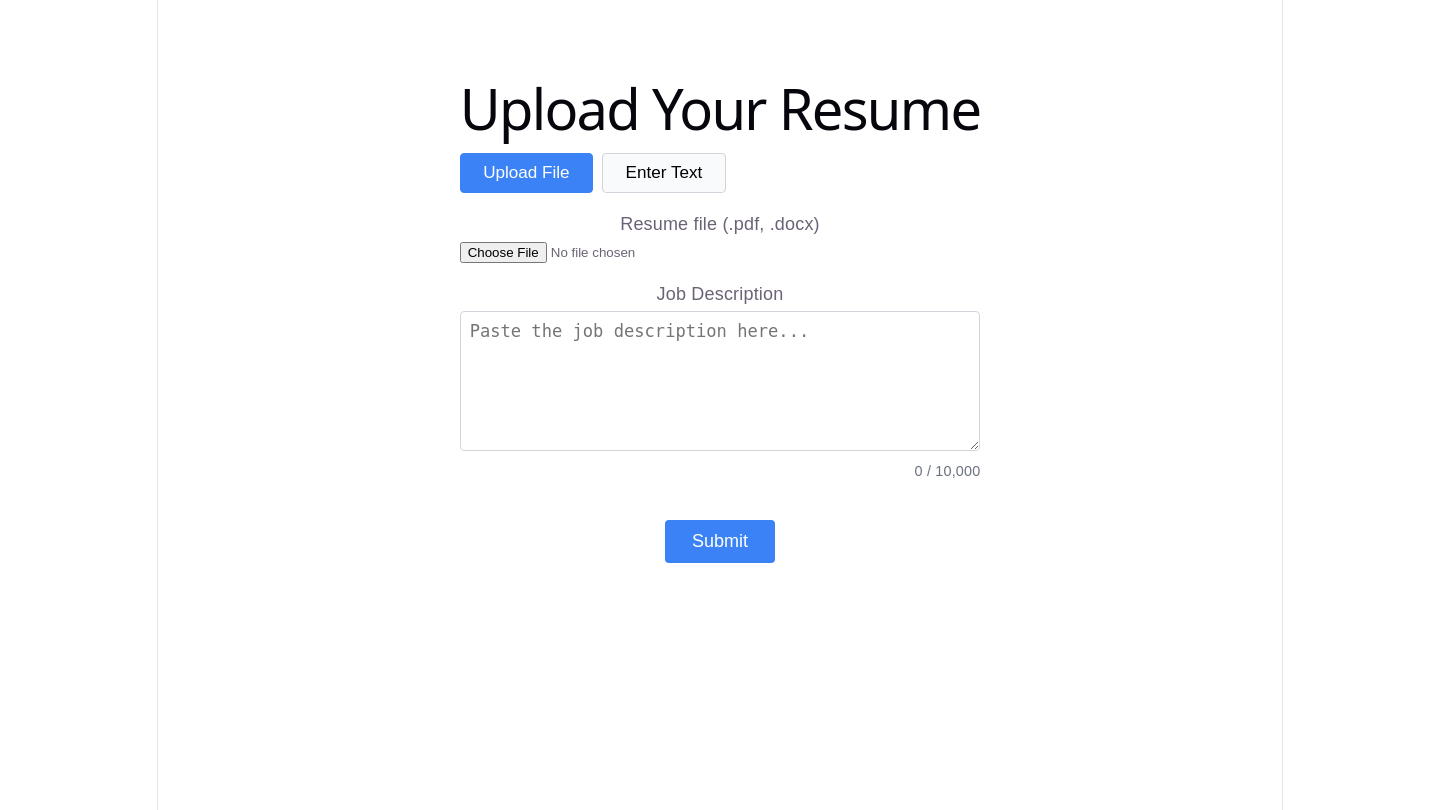
ResumeJDInputScreen › shows character counter for text mode
Click the button "Enter Text": x=664, y=173 [602,153,726,193]
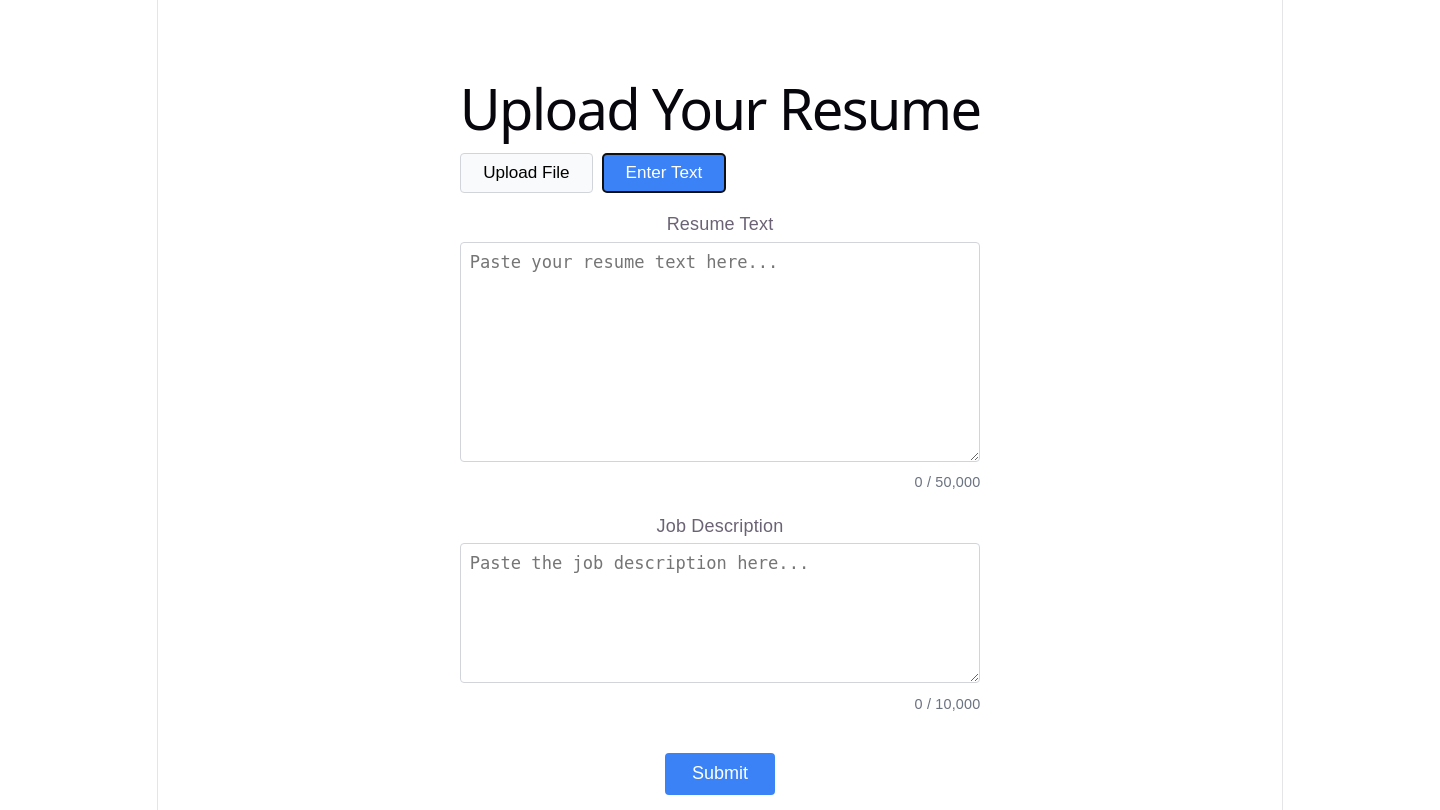
In the text box labelled "Resume Text": x=720, y=352 [460,242,980,462], type "hello01234"
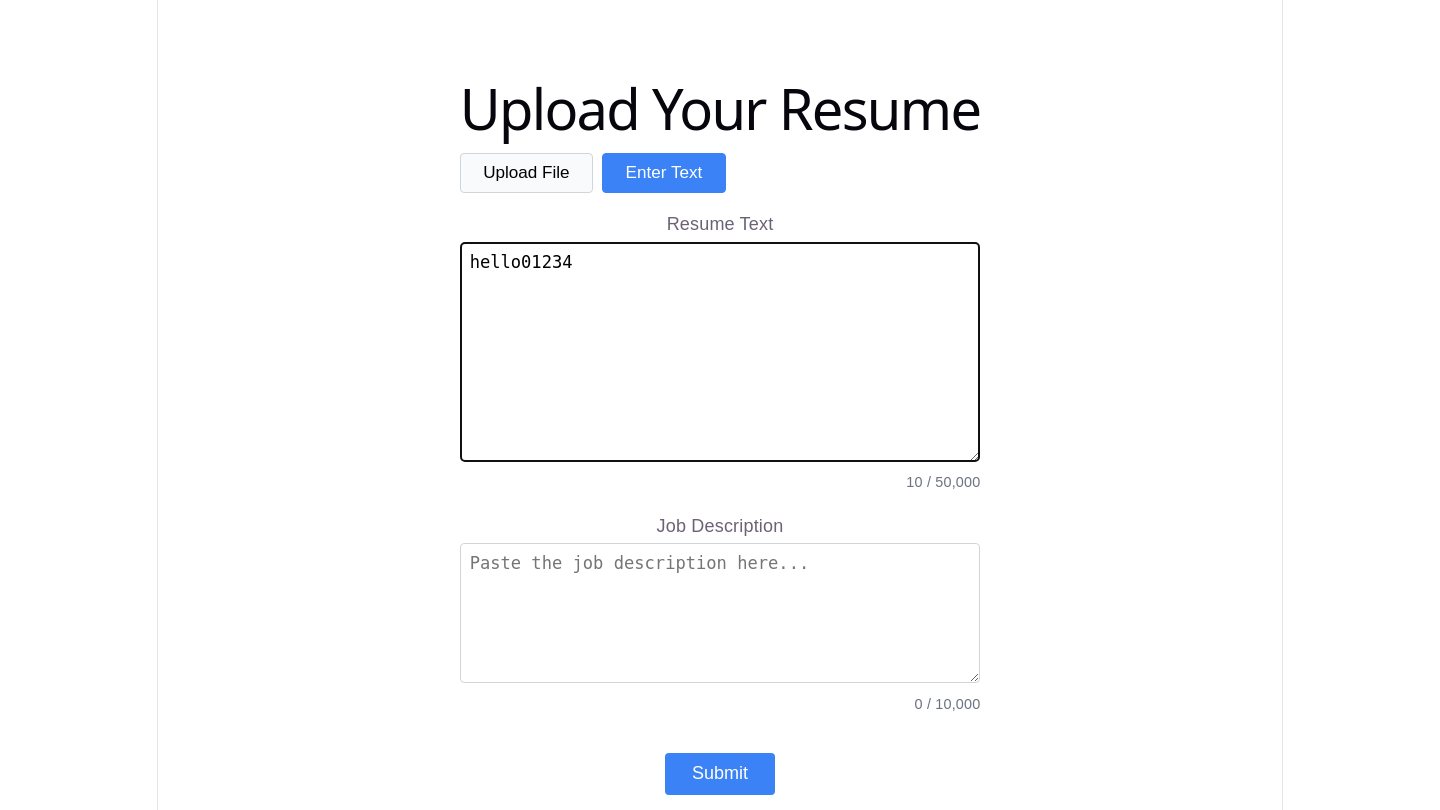
Check: the text "10 / 50,000" is shown, box [906,474,980,490]
